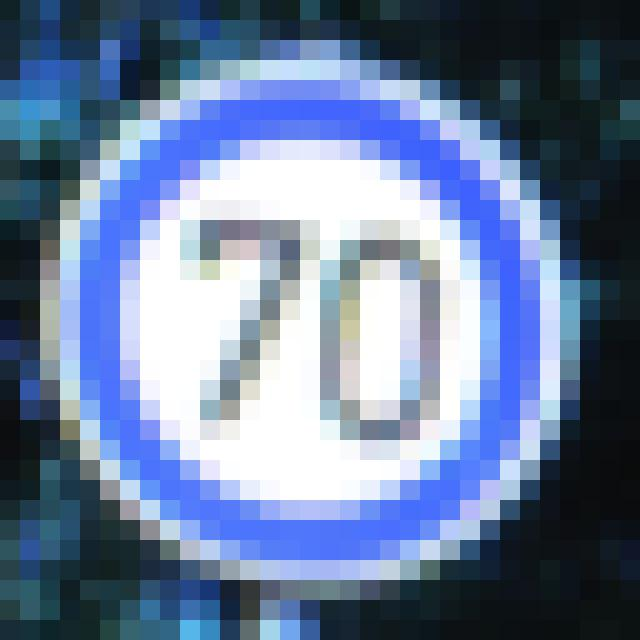SPEED LIMIT 70: (61, 61, 556, 579)
